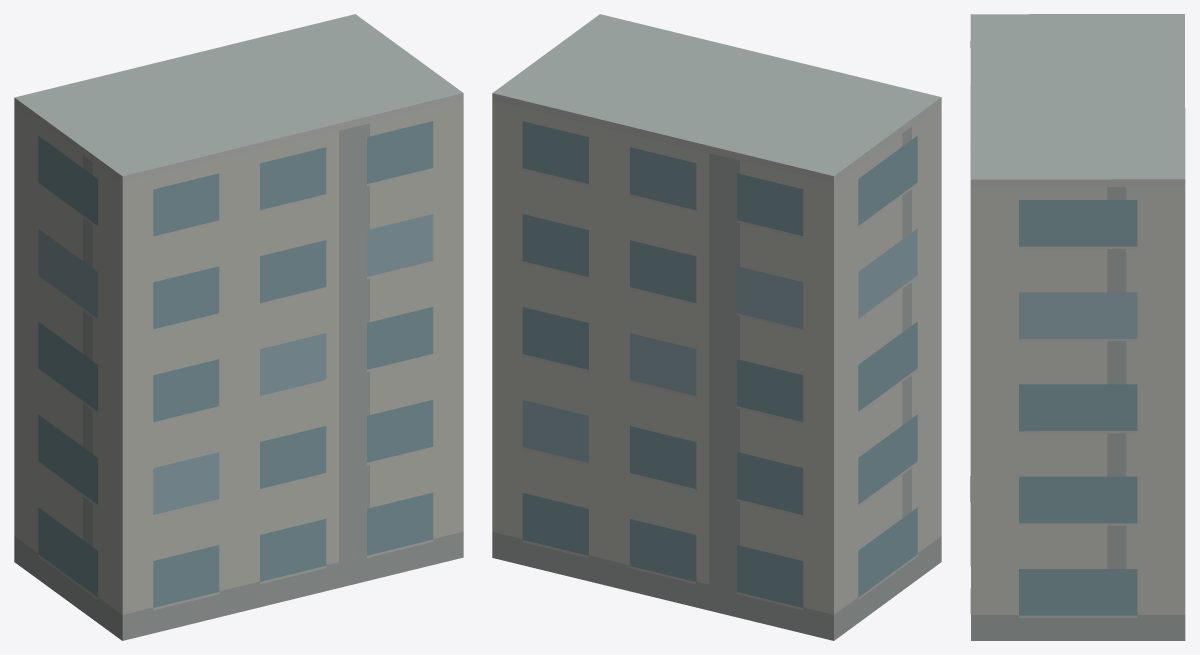
File: survey-upis-32728801.glb
3 renders of one model, left to right at view 1: azimuth 30°, elevation 25°; view 2: azimuth 150°, elevation 25°; view 3: azimuth 270°, elevation 25°, orthographic.
Visible parts, largest first — view 1: survey-upis-32728801.tmp; view 2: survey-upis-32728801.tmp; view 3: survey-upis-32728801.tmp.
Part boxes in pixels (<box>): survey-upis-32728801.tmp: <box>14,14,463,640</box>; survey-upis-32728801.tmp: <box>492,14,941,640</box>; survey-upis-32728801.tmp: <box>970,14,1185,640</box>.
Size of the model in its own units: 11.76 by 15.25 by 6.46.
